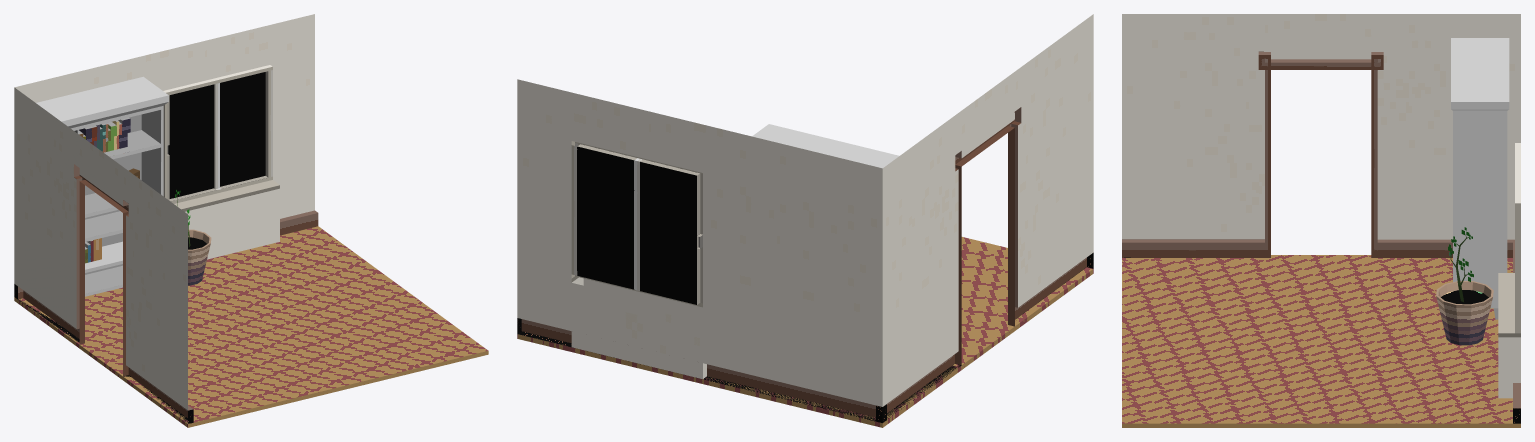
File: pixel_room.glb
The picture shows the model from 3 angles, left to right: view 1: azimuth 30°, elevation 25°; view 2: azimuth 150°, elevation 25°; view 3: azimuth 270°, elevation 25°; orthographic projection. The views are drawn at different scales.
Visible parts, largest first — view 1: Floor, BackWall, SideWall, Cube.001, Cube, Cube.002, Cylinder, Cube.006; view 2: BackWall, SideWall, Floor, Cube; view 3: SideWall, Floor, Cube, BackWall, Cylinder.
Boxes of the visible parts, x1,y1,x2,y2 form: Floor: [14, 226, 488, 427]; BackWall: [14, 14, 318, 299]; SideWall: [14, 87, 193, 423]; Cube.001: [71, 106, 163, 296]; Cube: [36, 76, 168, 128]; Cube.002: [74, 114, 141, 152]; Cylinder: [188, 229, 211, 285]; Cube.006: [85, 233, 122, 263]; BackWall: [517, 79, 886, 422]; SideWall: [876, 14, 1093, 422]; Floor: [517, 237, 1093, 427]; Cube: [752, 124, 899, 168]; SideWall: [1122, 14, 1520, 257]; Floor: [1122, 255, 1520, 427]; Cube: [1451, 38, 1509, 319]; BackWall: [1498, 143, 1520, 423]; Cylinder: [1436, 281, 1493, 345].
Size of the model in its own units: 4.05 by 2.75 by 4.05.
Materials: 6 (5 with a texture image).
